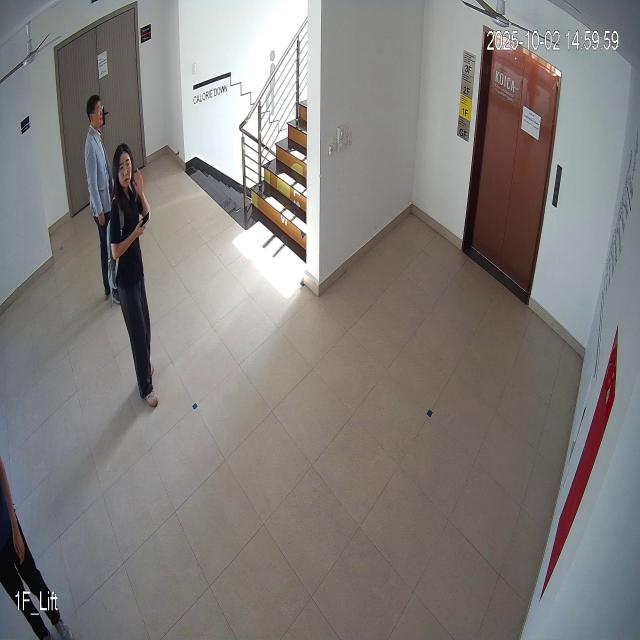face: (113, 144, 135, 192)
